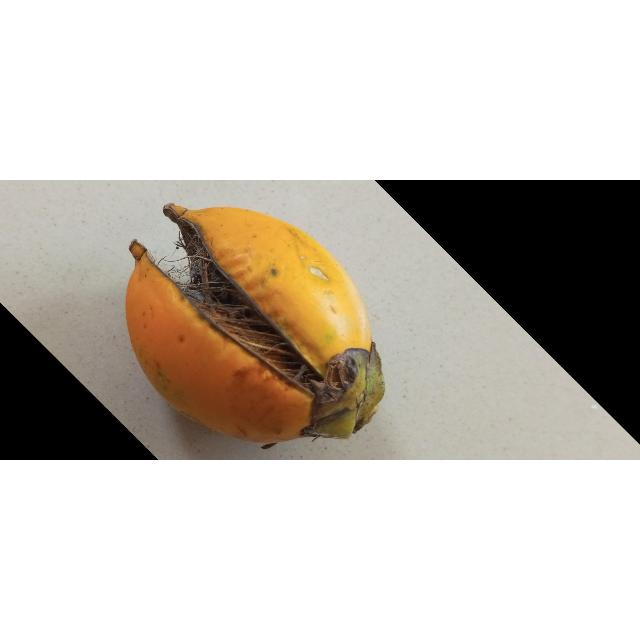damaged: (125, 203, 386, 450)
